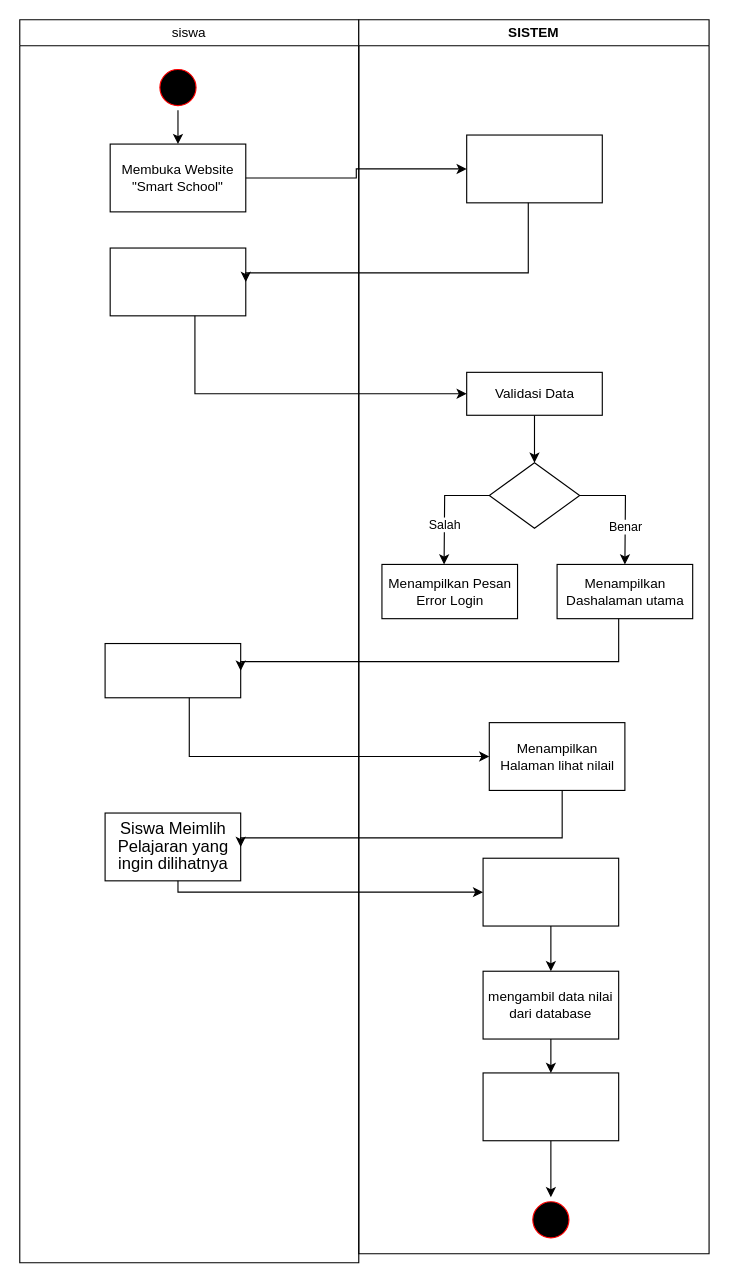
Some shapes in this 729 by 1283 pixel diagram are drawn without their labels. Here are the shapes that lost their labels. From the top down, the centre of each, then its label:
At (x=534, y=168): "Menampilkan Halaman Website Smart School".
At (x=177, y=281): "siswa melakukan login".
At (x=172, y=670): "membuka halaman meihat nilai".
At (x=550, y=891): "menerima permintaan nilai".
At (x=550, y=1106): "menampilkan data nilai ke siswa".
